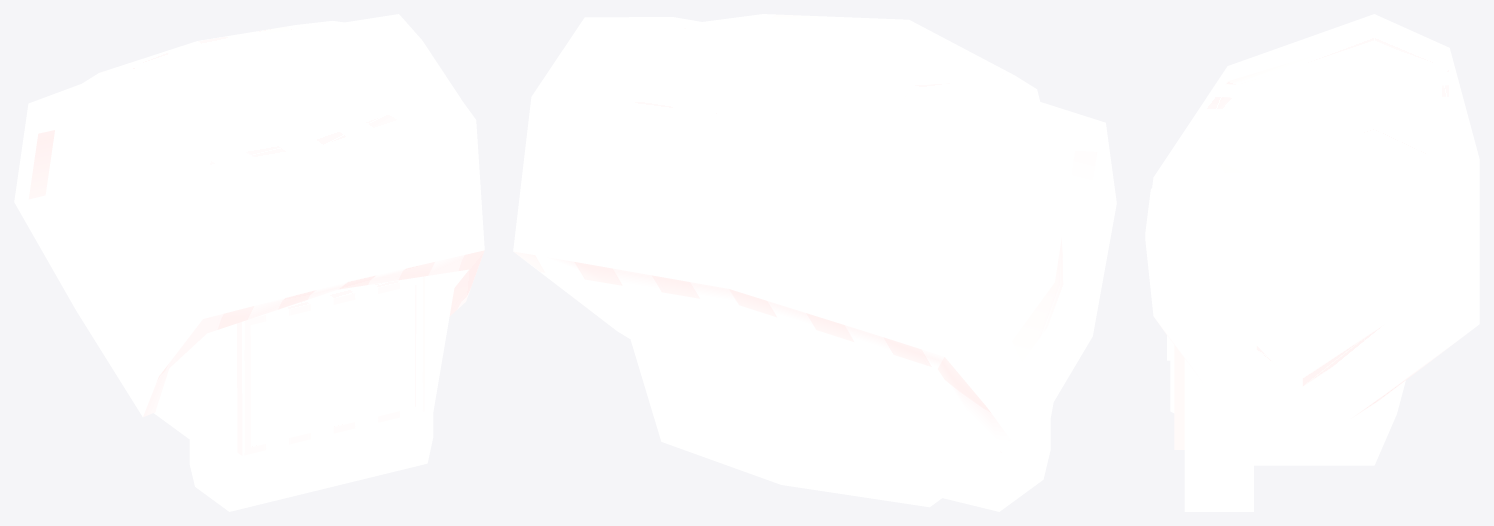
File: Body_V4.gltf
3 views of the same model, side by side, from view 1: azimuth 30°, elevation 25°; view 2: azimuth 150°, elevation 25°; view 3: azimuth 270°, elevation 25° (orthographic). The views are drawn at different scales.
Visible parts, largest first — view 1: M4_Body_top, M4_Body_Mid; view 2: M4_Body_top, M4_Body_Mid; view 3: M4_Body_top, M4_Body_Mid.
Boxes of the visible parts, <box> form: M4_Body_top: <box>14,14,484,417</box>; M4_Body_Mid: <box>154,271,457,511</box>; M4_Body_top: <box>513,14,1116,454</box>; M4_Body_Mid: <box>614,284,1053,511</box>; M4_Body_top: <box>1145,14,1479,462</box>; M4_Body_Mid: <box>1167,335,1405,511</box>.
Size of the model in its own units: 31.64 by 31.43 by 25.2.
5 materials, 2 textured.
